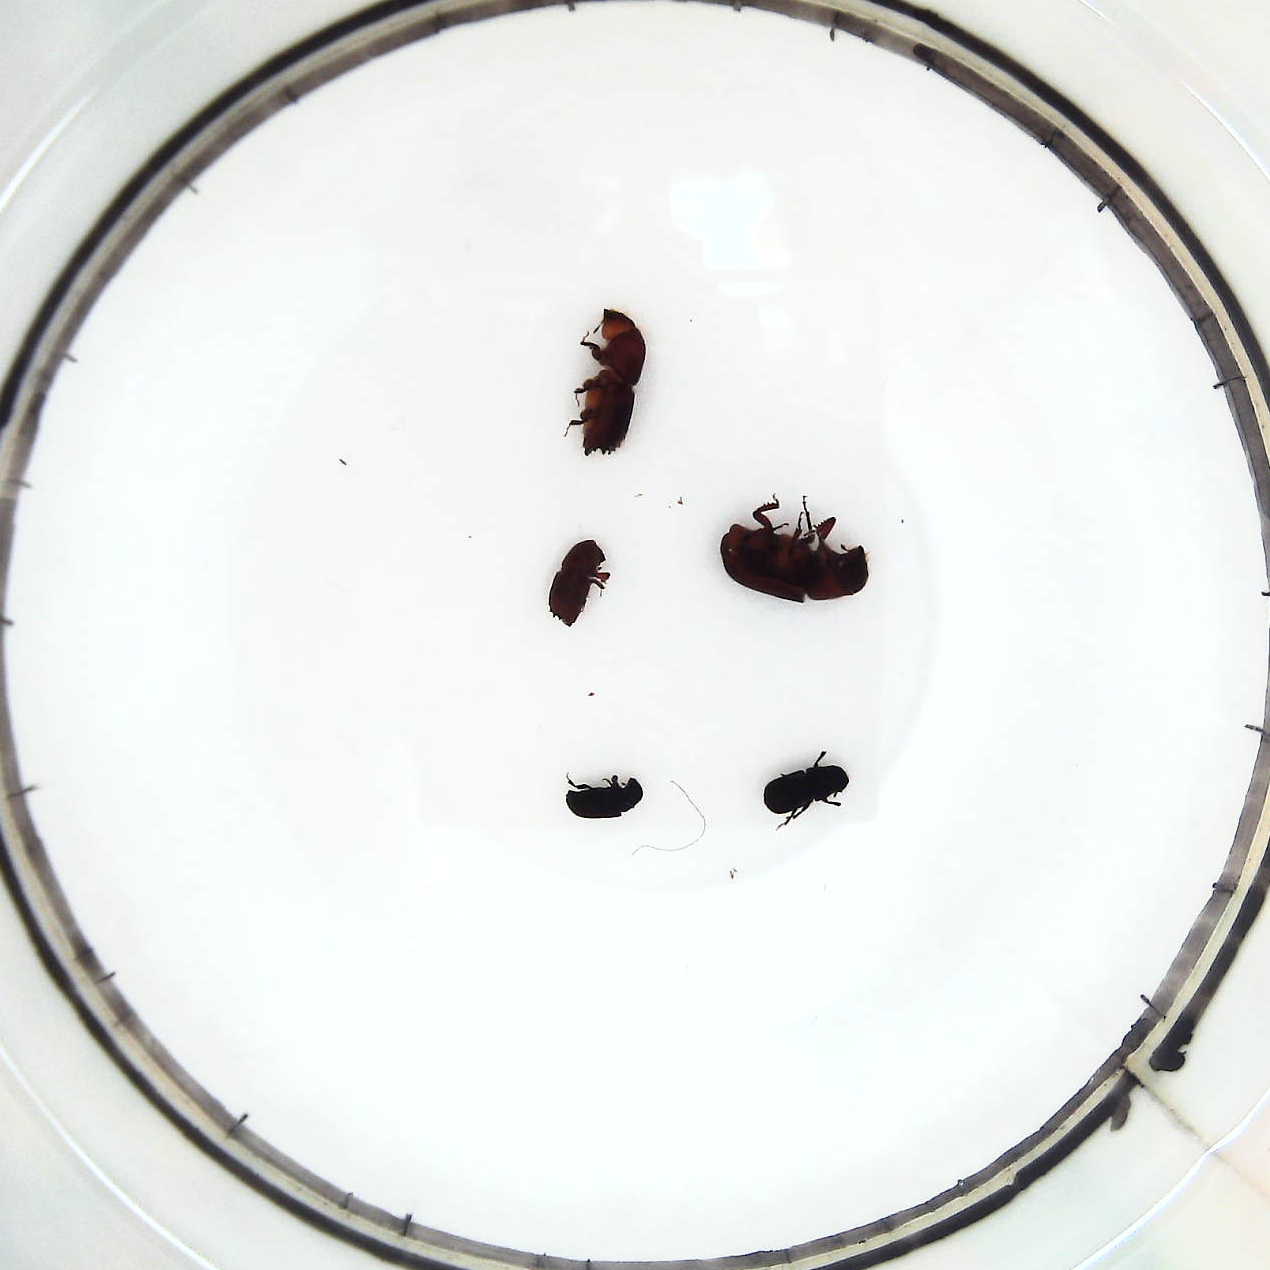Boerner: (563, 304, 648, 459)
Leconte: (714, 491, 875, 615)
armandi: (758, 749, 852, 823)
coleoptera: (563, 769, 643, 830)
linnaeus: (548, 537, 614, 625)
